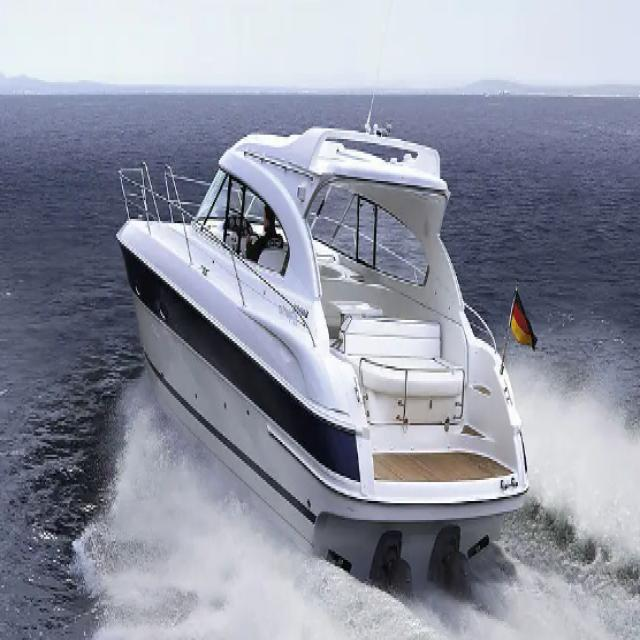houseboat: (119, 120, 524, 561)
